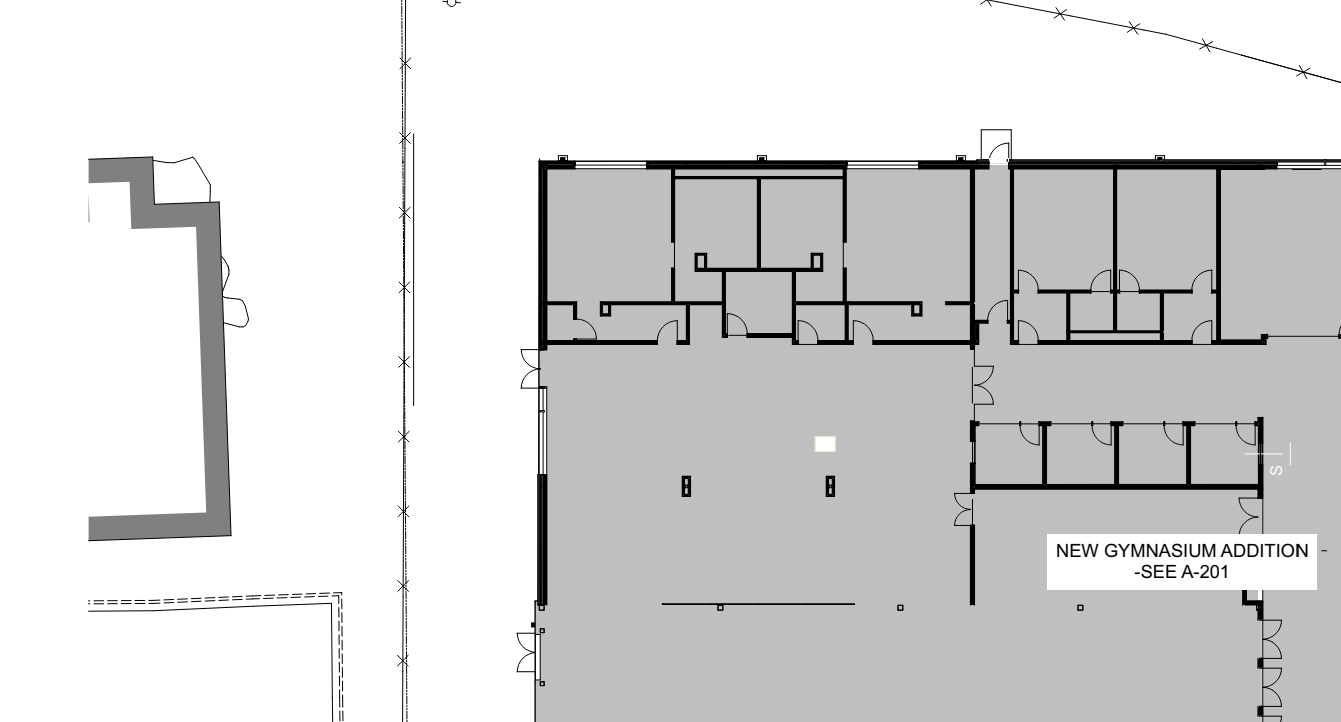door: (567, 315, 601, 343), (725, 309, 750, 345), (1117, 261, 1142, 297), (795, 317, 821, 351), (851, 317, 877, 350), (1015, 316, 1041, 348), (1017, 417, 1042, 449), (1189, 318, 1215, 348), (654, 318, 679, 349), (1160, 419, 1186, 448), (1089, 419, 1113, 450), (1015, 269, 1042, 296), (1088, 267, 1113, 296), (1190, 267, 1215, 296), (985, 298, 1011, 325), (1233, 419, 1258, 447), (987, 141, 1011, 166)
double door: (1236, 495, 1270, 538), (514, 629, 541, 676), (1257, 666, 1286, 709), (970, 363, 997, 409), (518, 346, 543, 391), (1259, 618, 1285, 660), (951, 491, 978, 527)
window: (572, 155, 649, 177), (845, 155, 927, 173), (535, 387, 550, 477), (967, 441, 980, 468)
